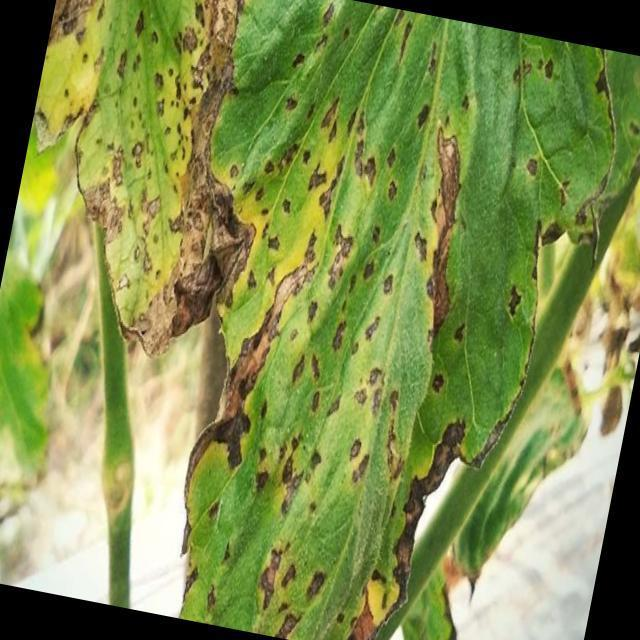Bacterial Spot: (174, 0, 496, 640), (72, 0, 246, 312)
